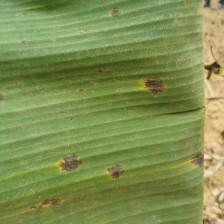pestalotiopsis: (0, 0, 202, 224)
